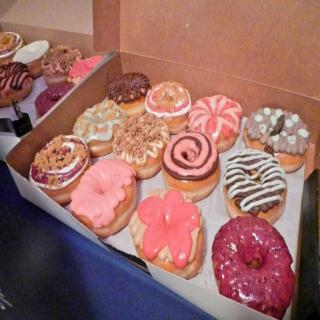Doughnut: (29, 72, 309, 312), (0, 30, 103, 114)
